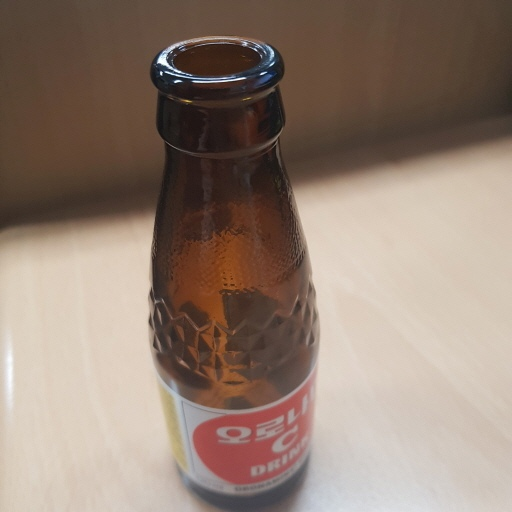Glass_3: (141, 31, 326, 511)
